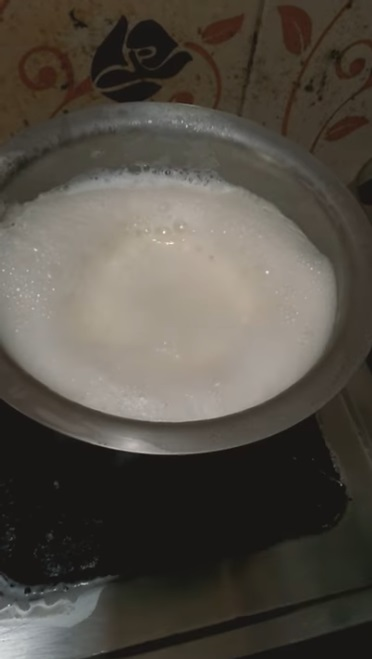Steaming: (3, 135, 341, 441)
